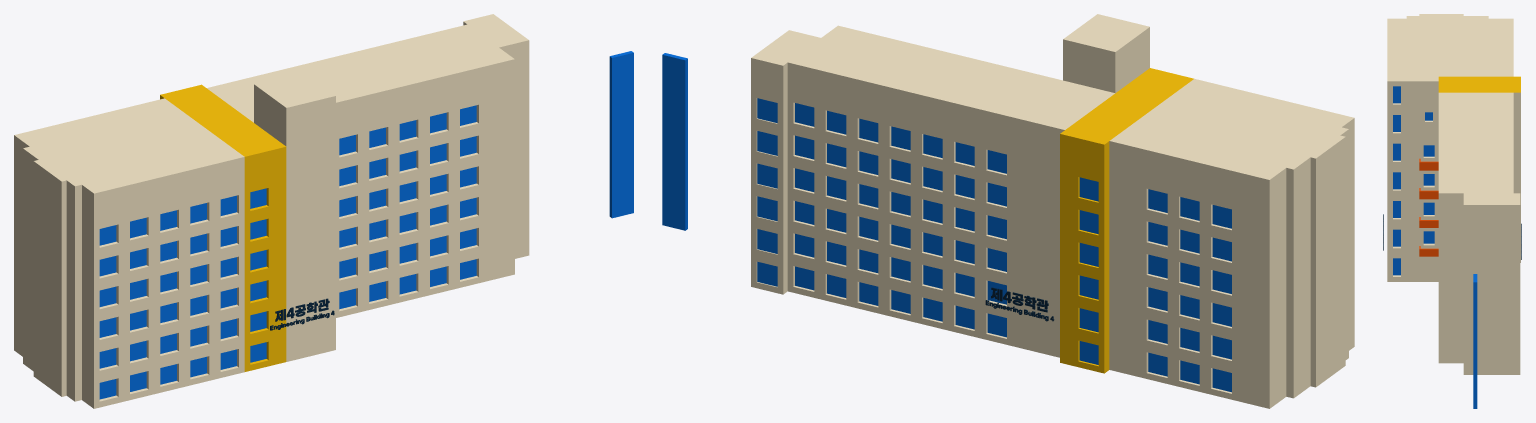
The model's file is 제4공학관.fbx.
3 renders of one model, left to right at view 1: azimuth 30°, elevation 25°; view 2: azimuth 150°, elevation 25°; view 3: azimuth 270°, elevation 25°, orthographic. The views are drawn at different scales.
Visible parts, largest first — view 1: Cube, Cube_70, Cube_69, Cube_4; view 2: Cube, Cube_2, Cube_1, Cube_4, Cube_3, Cube_2_2; view 3: Cube, Cube_71, Cube_4.
Part boxes in pixels (x1,y1,x2,y2): Cube: [14, 14, 529, 408]; Cube_70: [99, 188, 266, 399]; Cube_69: [339, 105, 476, 309]; Cube_4: [609, 51, 633, 218]; Cube: [751, 14, 1354, 408]; Cube_2: [795, 103, 1006, 337]; Cube_1: [1148, 189, 1231, 392]; Cube_4: [662, 53, 687, 230]; Cube_3: [757, 98, 777, 286]; Cube_2_2: [1079, 177, 1098, 364]; Cube: [1387, 14, 1520, 374]; Cube_71: [1393, 86, 1434, 275]; Cube_4: [1473, 274, 1477, 408].
Size of the model in its own units: 1477 by 592 by 370.
